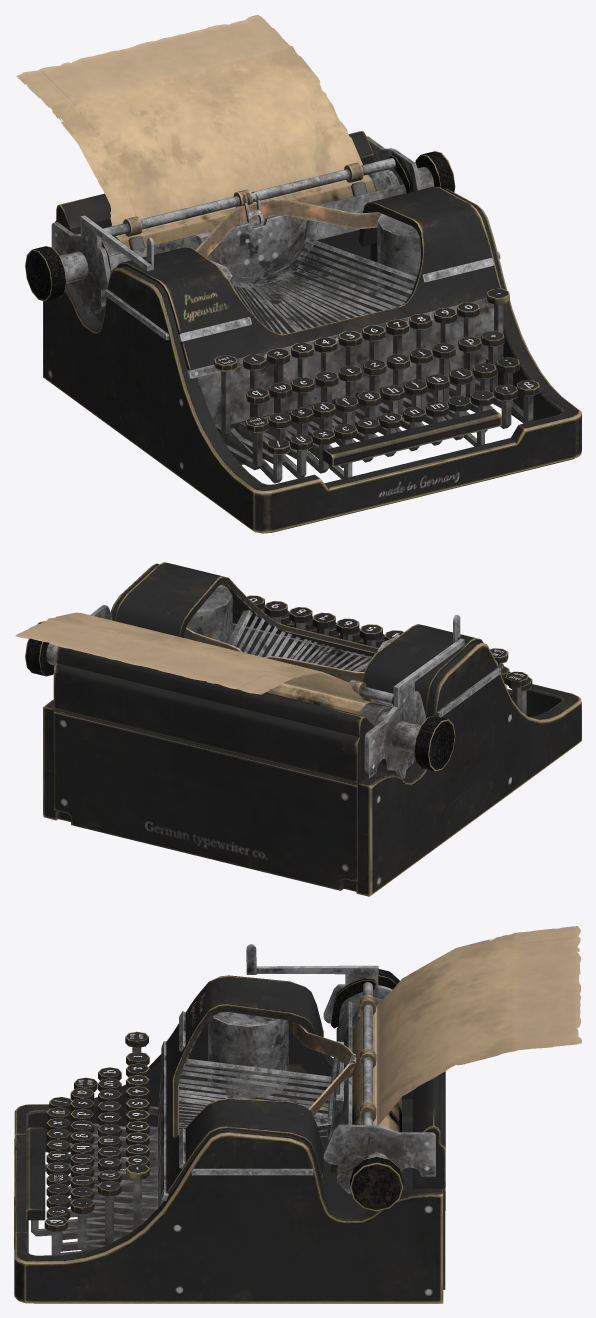
File: typewriter.glb
The picture shows the model from 3 angles, top to bottom: view 1: azimuth 30°, elevation 25°; view 2: azimuth 150°, elevation 25°; view 3: azimuth 270°, elevation 25°; orthographic projection.
Visible parts, largest first — view 1: typewriter_typewriter_0, paper_paper_0; view 2: typewriter_typewriter_0, paper_paper_0; view 3: typewriter_typewriter_0, paper_paper_0.
Boxes of the visible parts, x1,y1,x2,y2 form: typewriter_typewriter_0: (25,131,581,533); paper_paper_0: (16,15,376,248); typewriter_typewriter_0: (25,562,581,896); paper_paper_0: (15,612,372,714); typewriter_typewriter_0: (14,944,445,1303); paper_paper_0: (352,926,581,1132).
Bounding box in the file's own units: 4.82 × 2.77 × 5.94.
2 materials, 2 textured.
